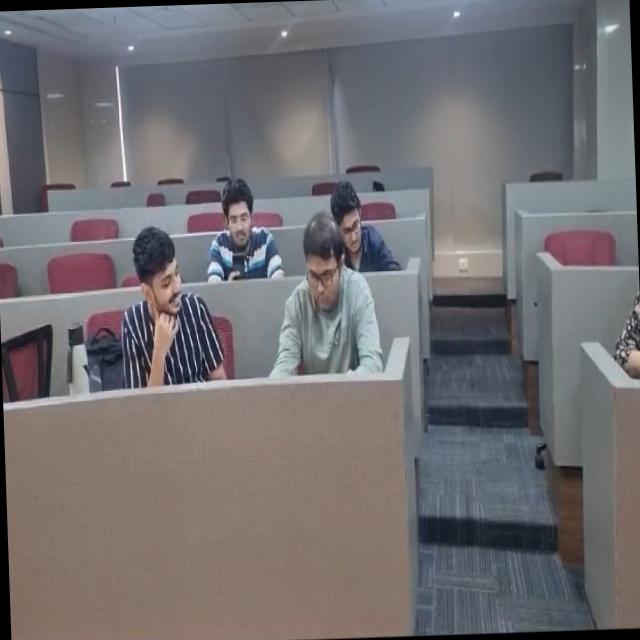cheating: (118, 224, 228, 385), (274, 221, 368, 362), (200, 182, 274, 288)
non-cheating: (312, 160, 388, 270)
